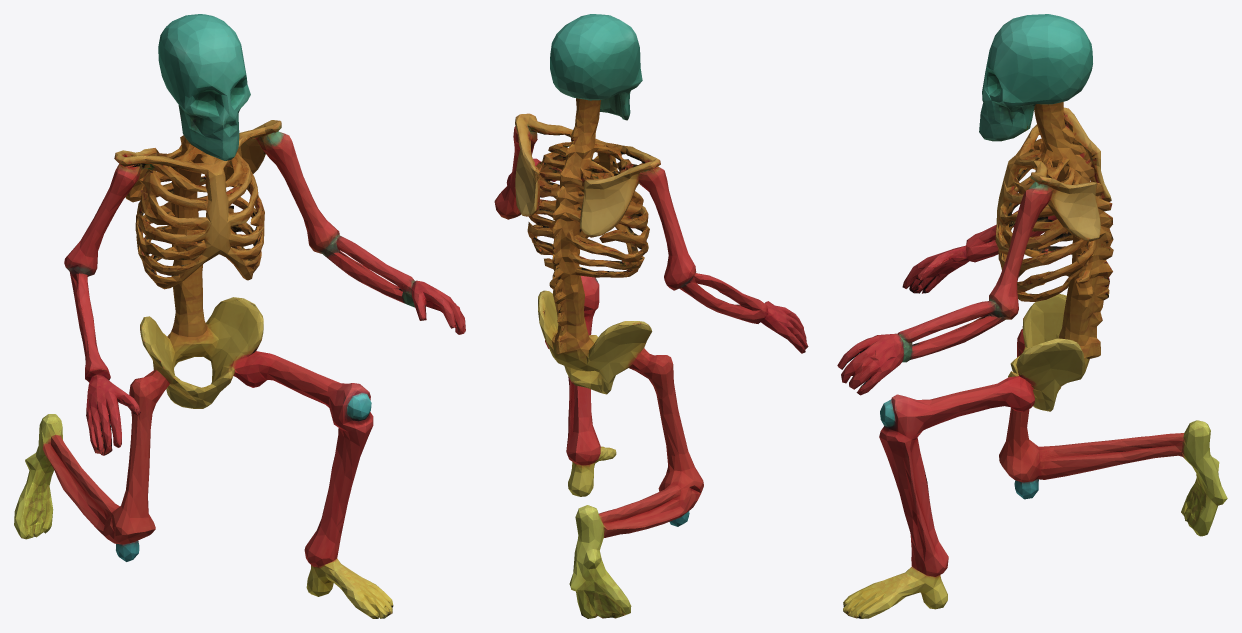
Rendered from figuraEsqueletoHumanoArticulado.glb.
3 renders of one model, left to right at view 1: azimuth 30°, elevation 25°; view 2: azimuth 150°, elevation 25°; view 3: azimuth 270°, elevation 25°, orthographic. The views are drawn at different scales.
Parts seen in each view (by area): view 1: world; view 2: world; view 3: world.
Boxes of the visible parts, <box> form: world: <box>14,14,465,618</box>; world: <box>494,14,808,618</box>; world: <box>837,14,1227,618</box>.
Bounding box in the file's own units: 0.6418 × 0.999 × 0.6358.
Materials: 1 (1 with a texture image).
